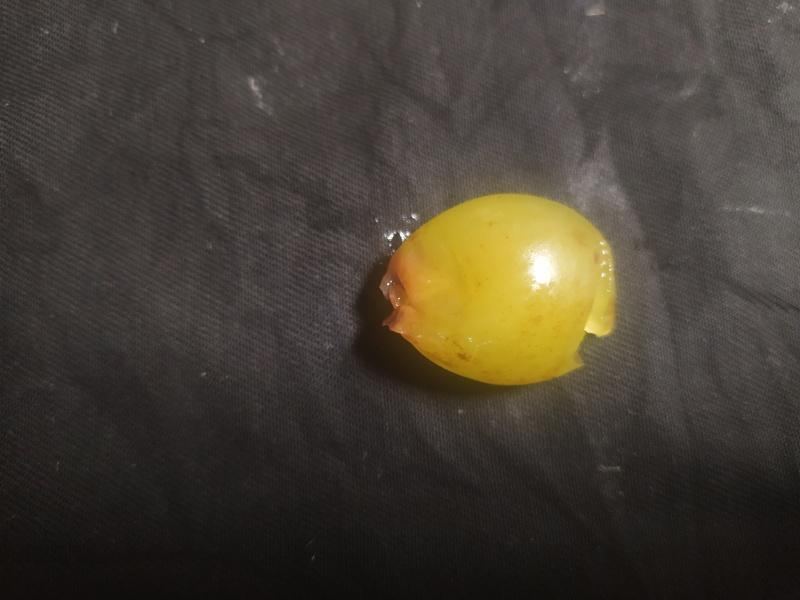Grape Overripe: (376, 188, 620, 388)
